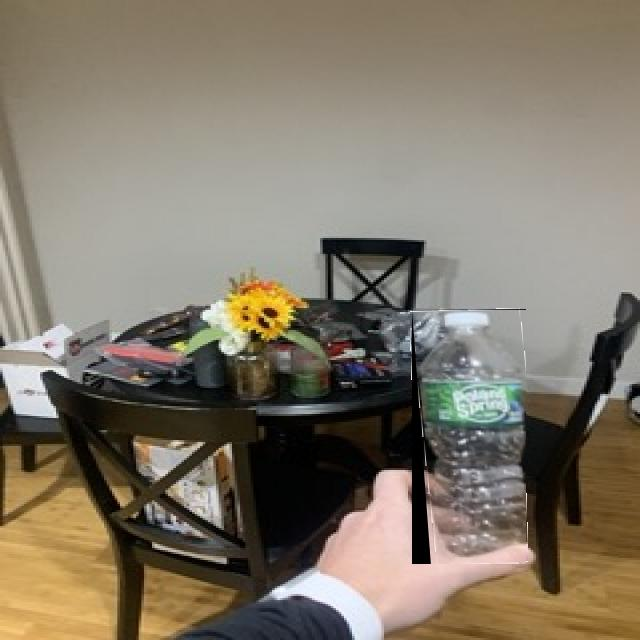water_bottle: (412, 309, 526, 564)
